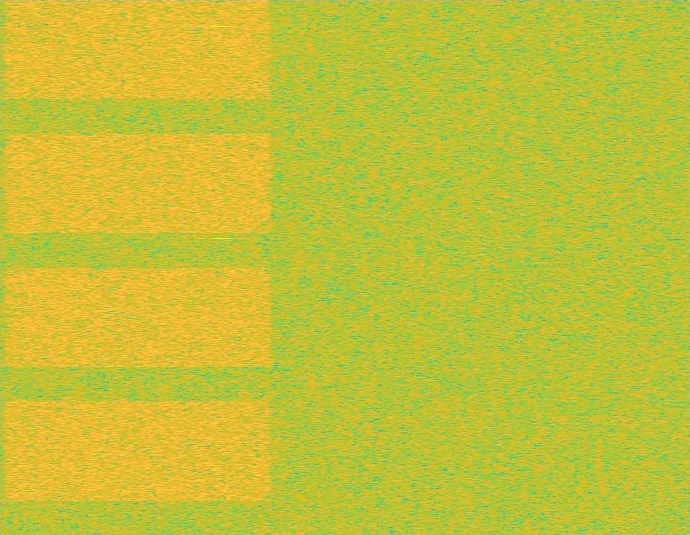5G: (0, 0, 276, 534)
Radar: (215, 0, 229, 534)
